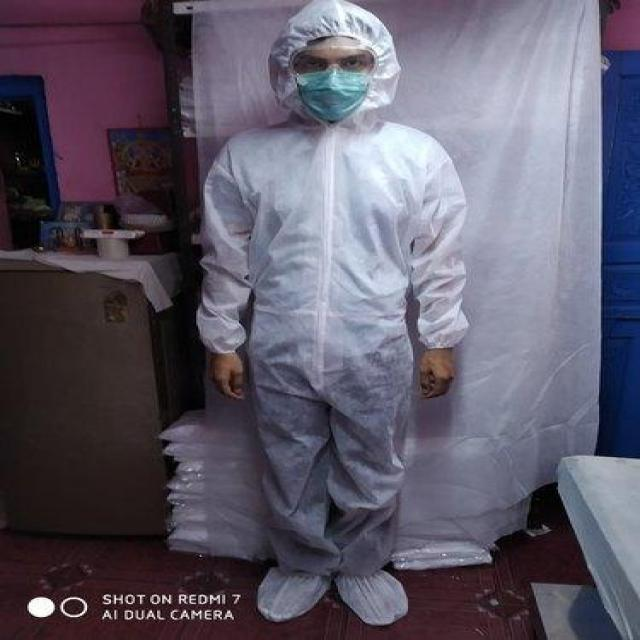Coverall: (184, 0, 476, 628)
Goggles: (285, 43, 377, 82)
Mask: (294, 67, 374, 122)
